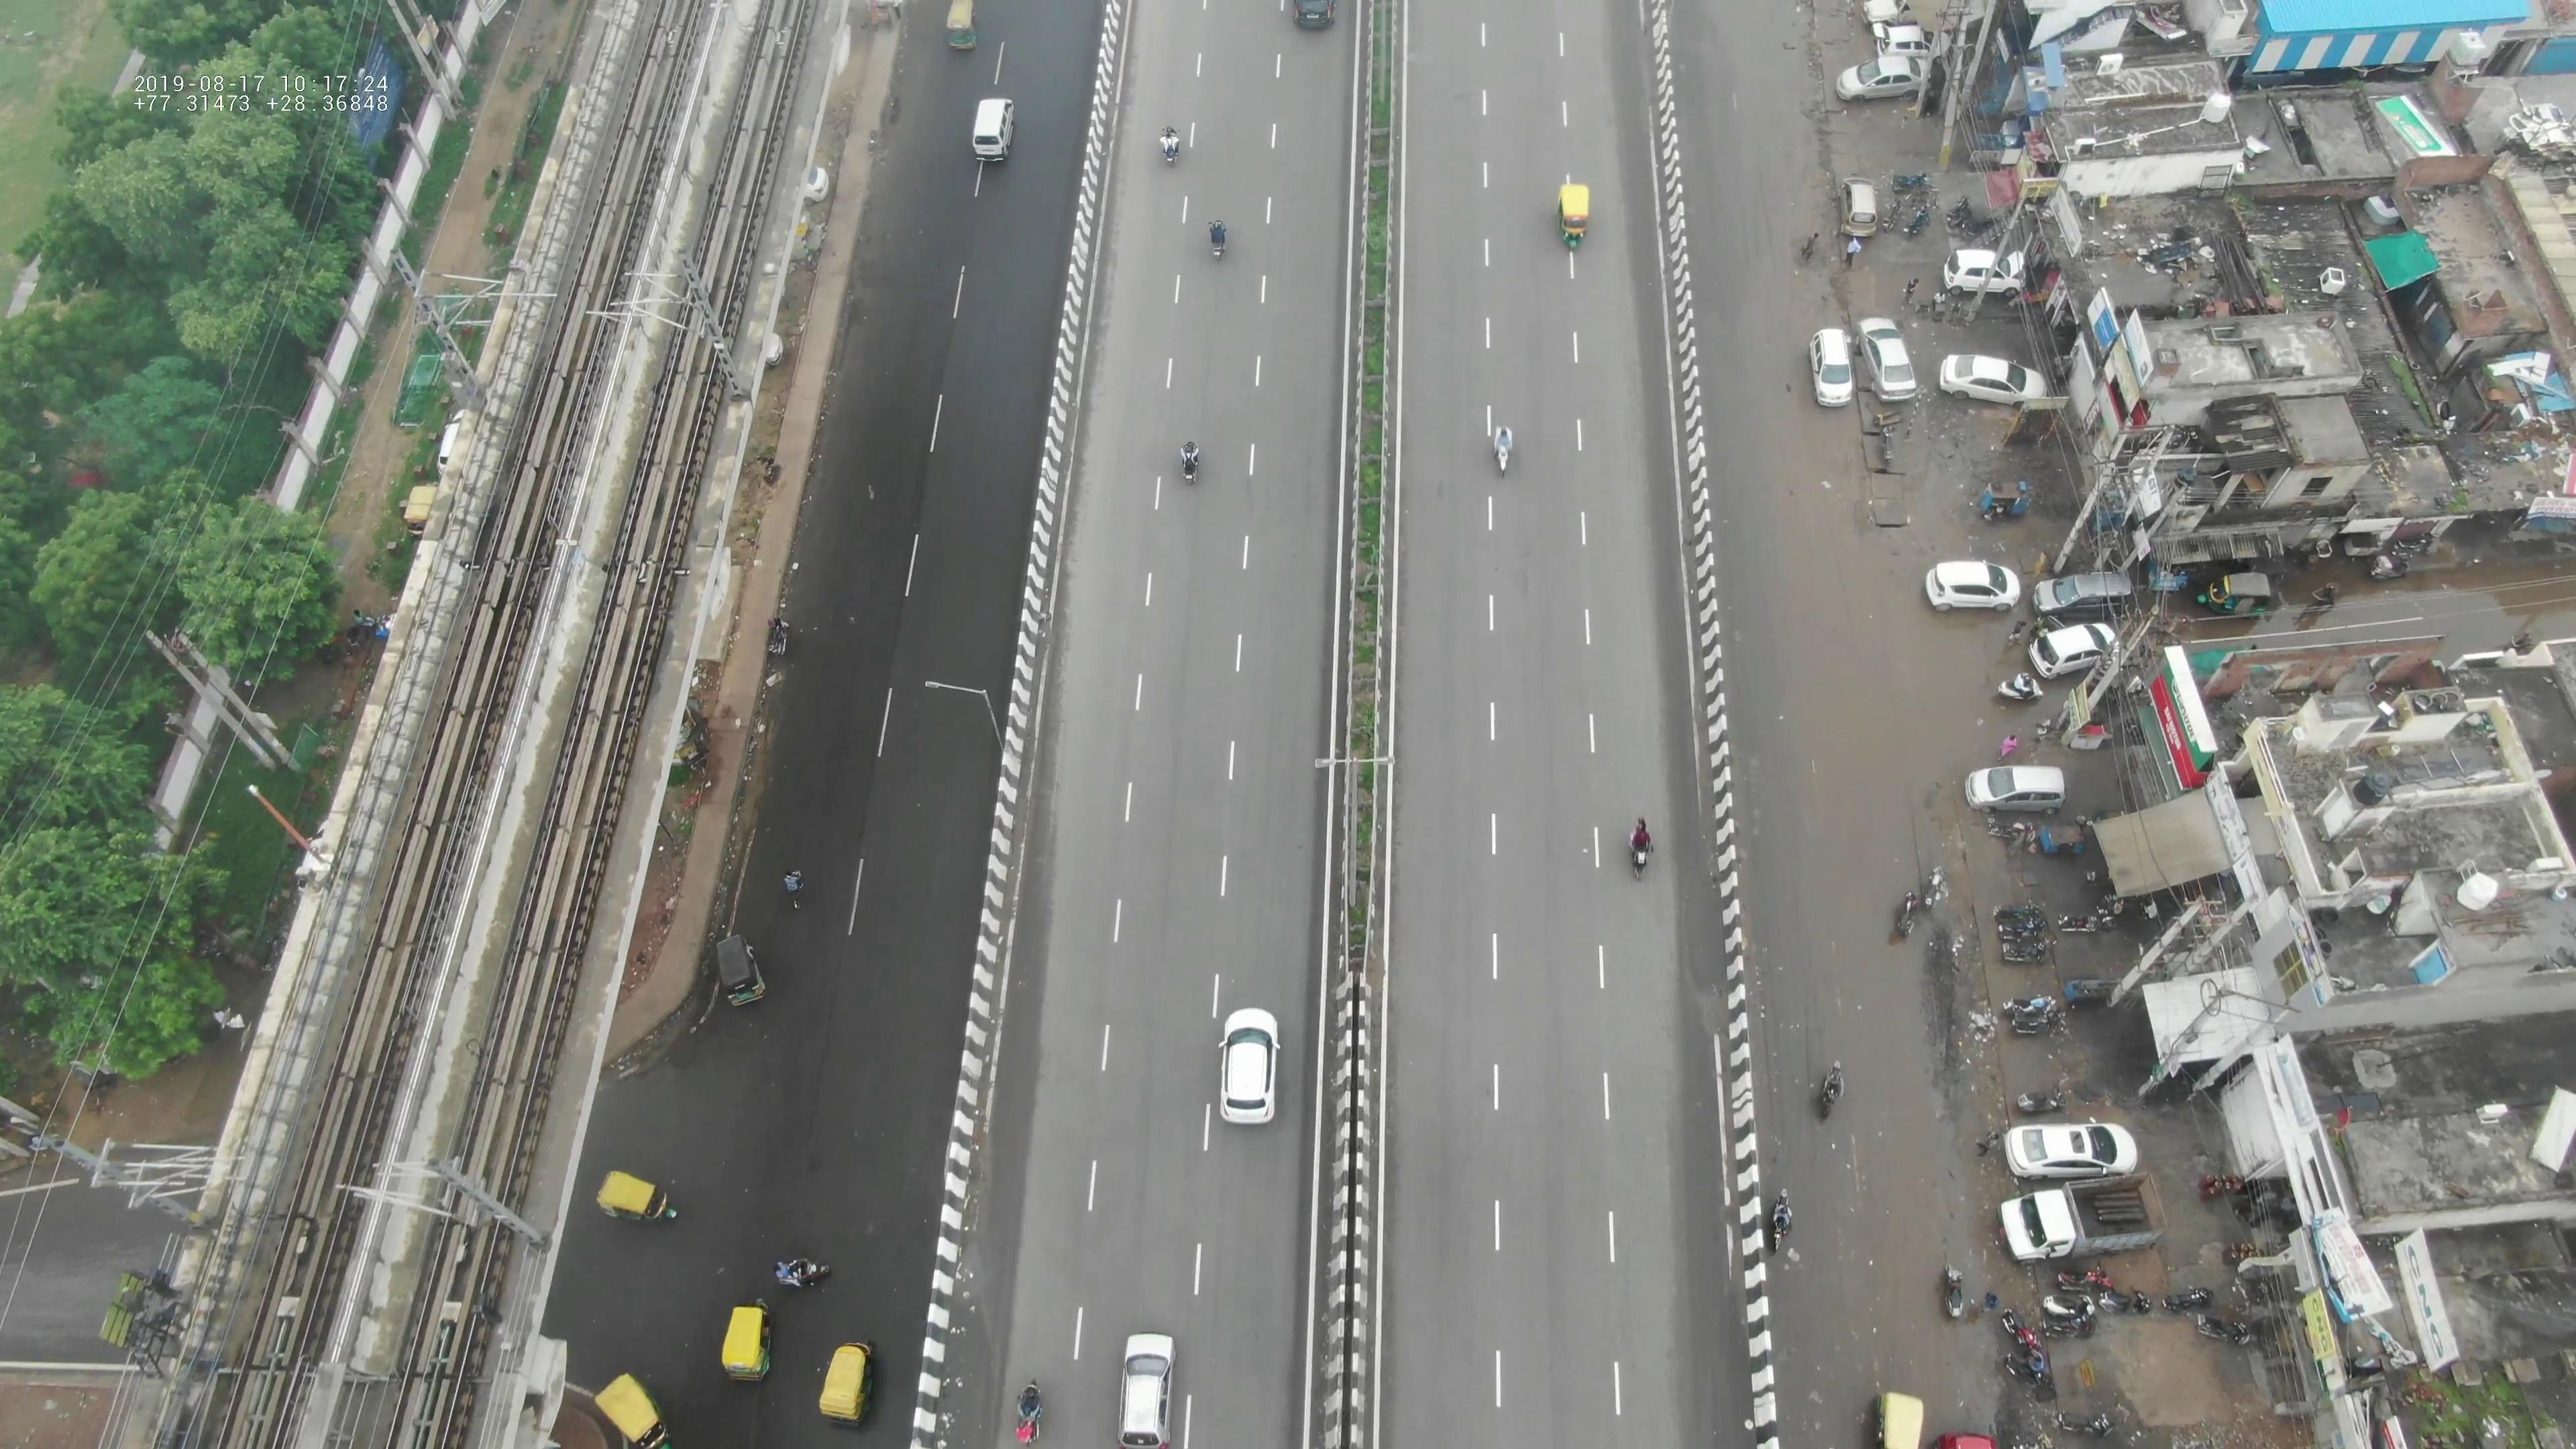Muddy_road: (1927, 931, 1980, 1125)
